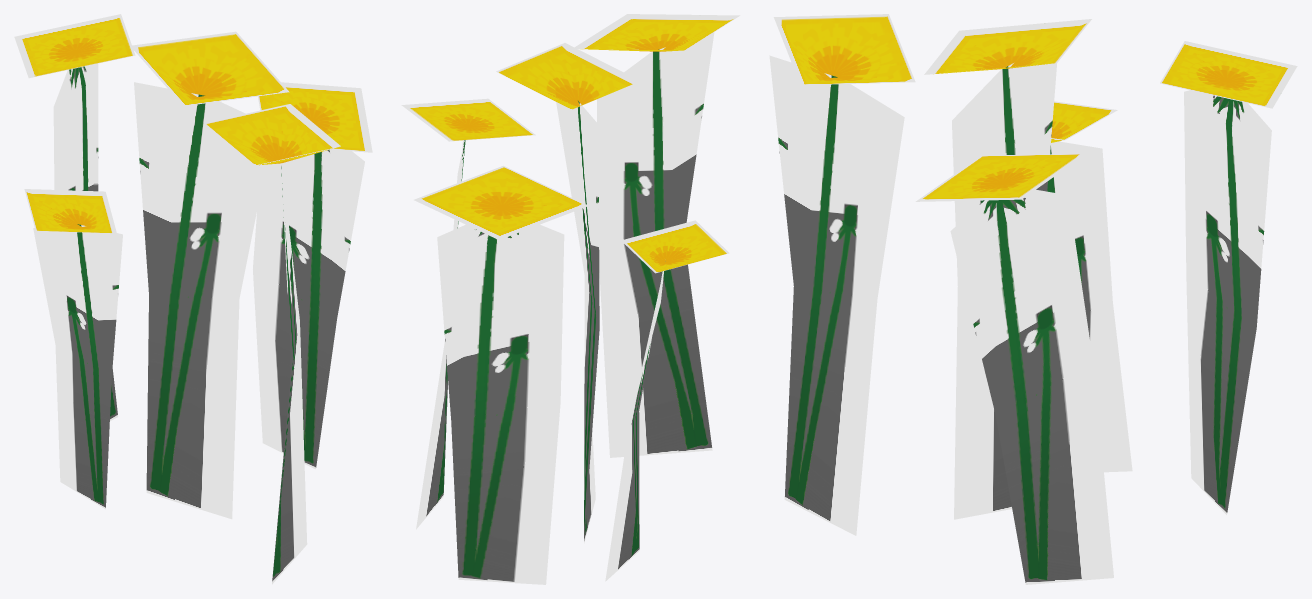
Rendered from PT_Dandelion_02.fbx.
The picture shows the model from 3 angles, left to right: view 1: azimuth 30°, elevation 25°; view 2: azimuth 150°, elevation 25°; view 3: azimuth 270°, elevation 25°; orthographic projection. The views are drawn at different scales.
Parts seen in each view (by area): view 1: PT_Dandelion_02_LOD0; view 2: PT_Dandelion_02_LOD0; view 3: PT_Dandelion_02_LOD0.
Boxes of the visible parts, bbox=[...] form: PT_Dandelion_02_LOD0: bbox=[14, 14, 372, 584]; PT_Dandelion_02_LOD0: bbox=[401, 14, 740, 584]; PT_Dandelion_02_LOD0: bbox=[769, 14, 1297, 584].
Size of what is drawn, in the model's own units: 33.98 by 44.45 by 43.7.
